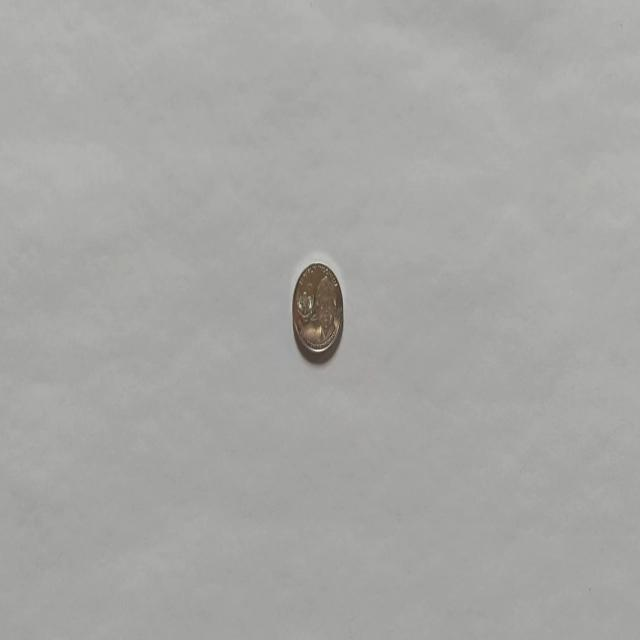dua ratus rupiah: (290, 260, 344, 356)
